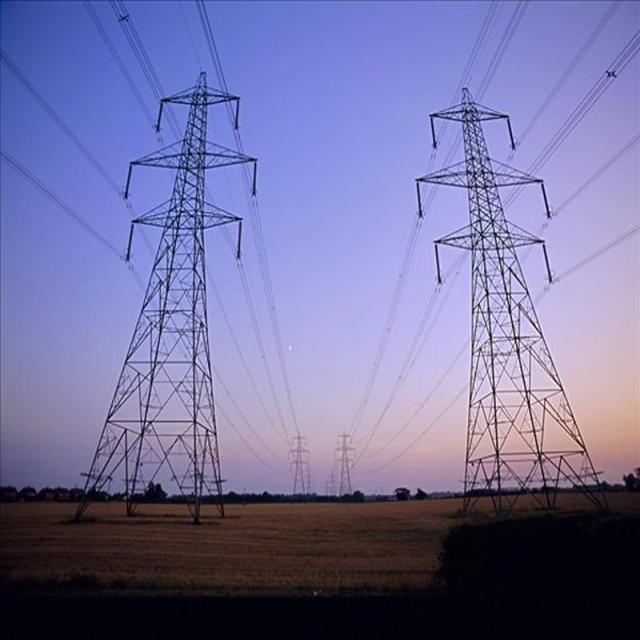non-critical vegetation: (403, 76, 624, 513), (118, 62, 248, 522)
